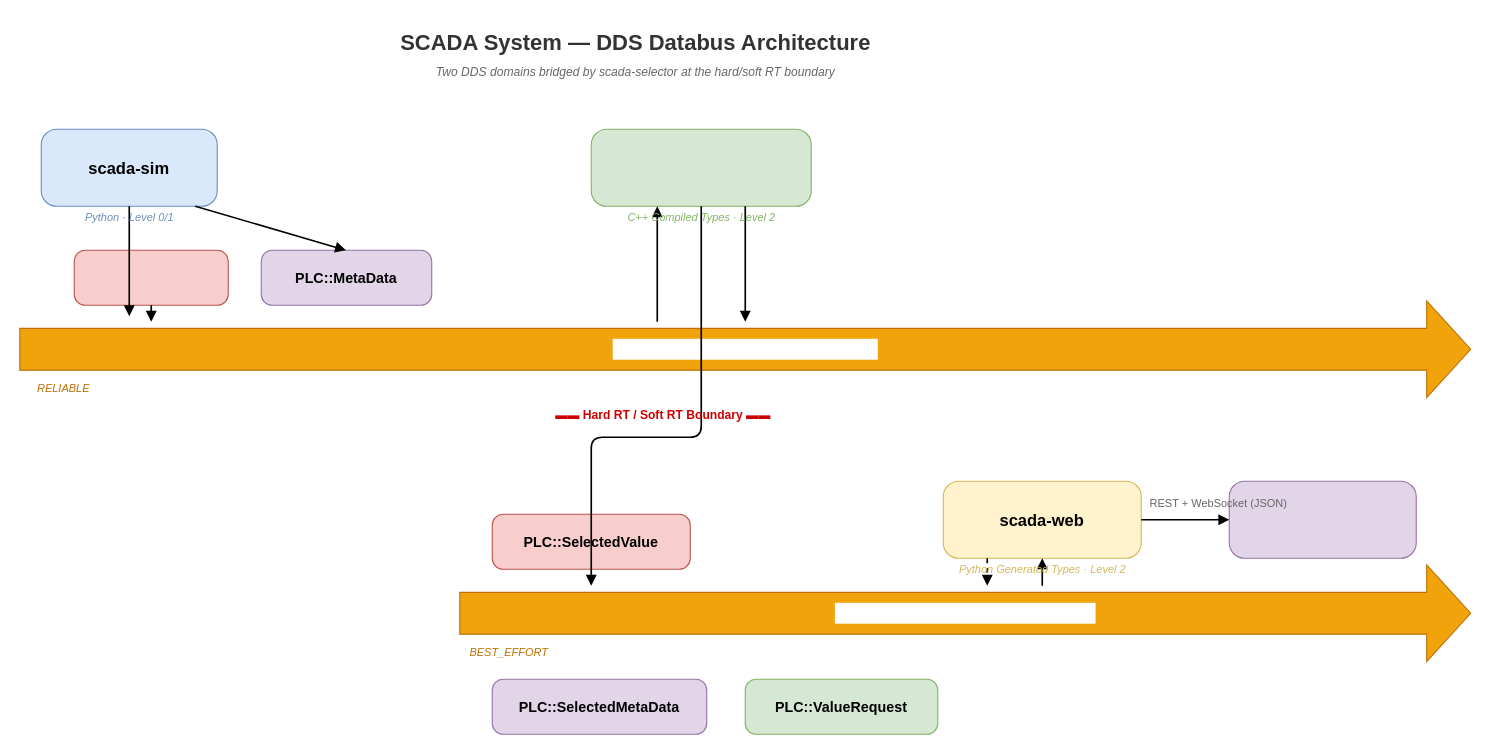
Image size: 1489x754. Some labels were removed from this diagram. The centre of each missing label's shape, as x and y in pixels:
"Browser HMI" belongs at pixel 1322 519.
"PLC::IdValue" belongs at pixel 150 277.
"scada-selector" belongs at pixel 700 167.
